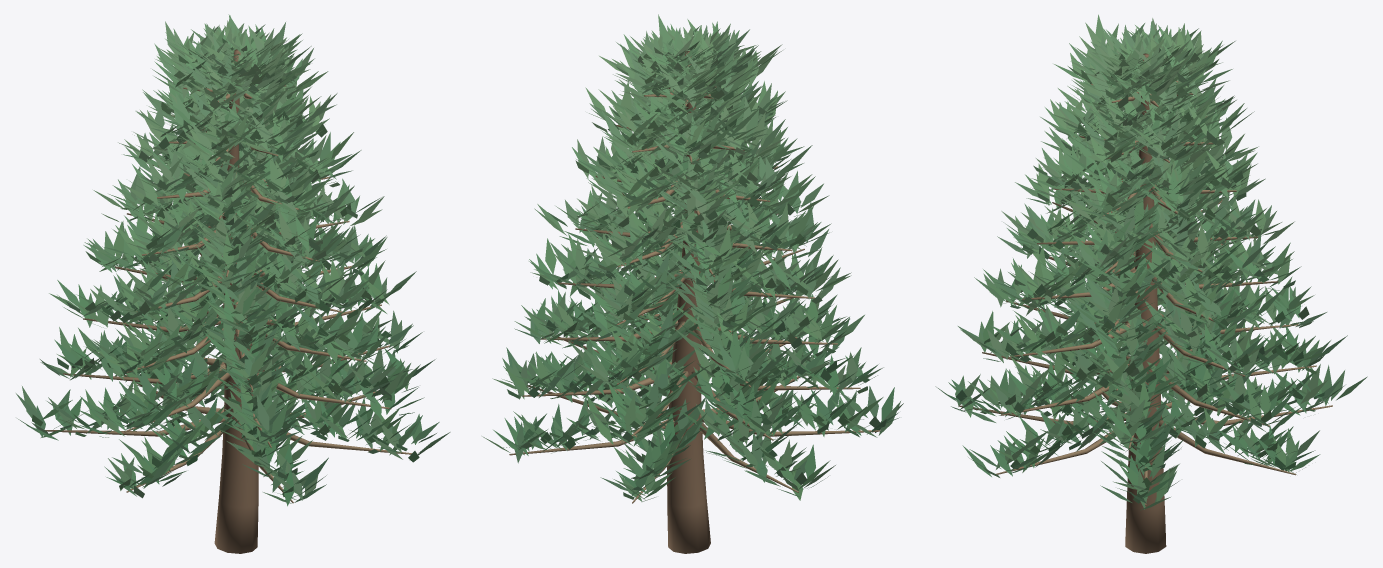
The model's file is forest-pine.glb.
3 views of the same model, side by side, from view 1: azimuth 30°, elevation 25°; view 2: azimuth 150°, elevation 25°; view 3: azimuth 270°, elevation 25° (orthographic).
Visible parts, largest first — view 1: forest-pine_Needles, forest-pine_Wood; view 2: forest-pine_Needles, forest-pine_Wood; view 3: forest-pine_Needles, forest-pine_Wood.
Part boxes in pixels (left/top/right/bottom): forest-pine_Needles: left=16, top=14, right=450, bottom=506; forest-pine_Wood: left=45, top=49, right=411, bottom=553; forest-pine_Needles: left=482, top=14, right=903, bottom=501; forest-pine_Wood: left=509, top=51, right=880, bottom=553; forest-pine_Needles: left=935, top=14, right=1367, bottom=510; forest-pine_Wood: left=958, top=53, right=1332, bottom=553.
Size of the model in its own units: 4.81 by 6.22 by 4.88.
